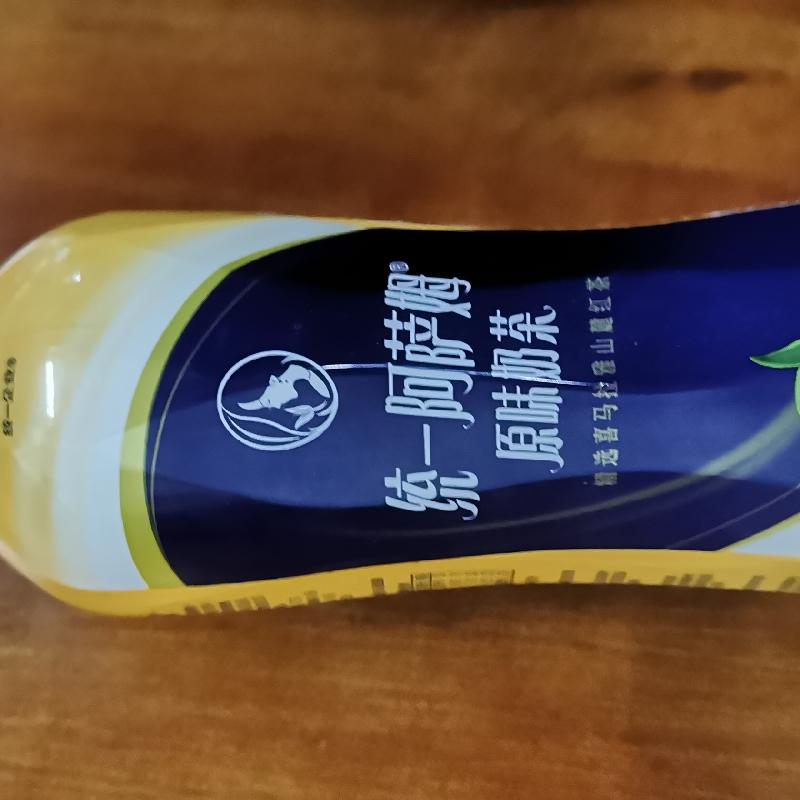bottles: (10, 198, 799, 627)
